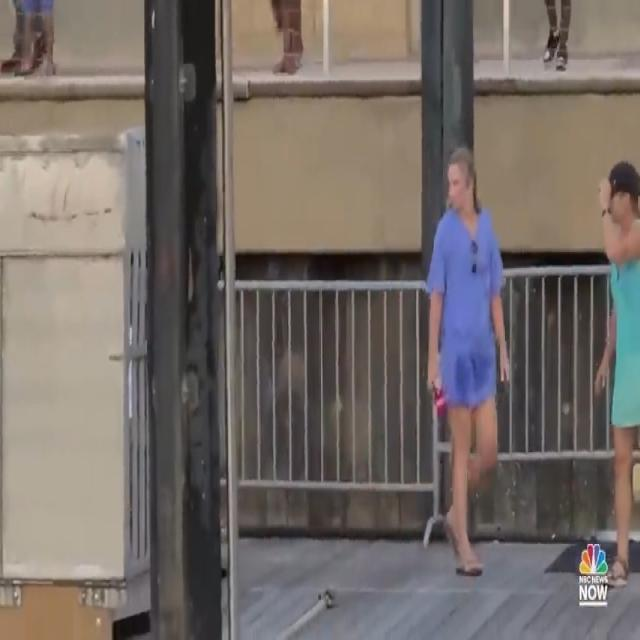non-fight: (429, 141, 511, 584), (592, 154, 640, 588)
